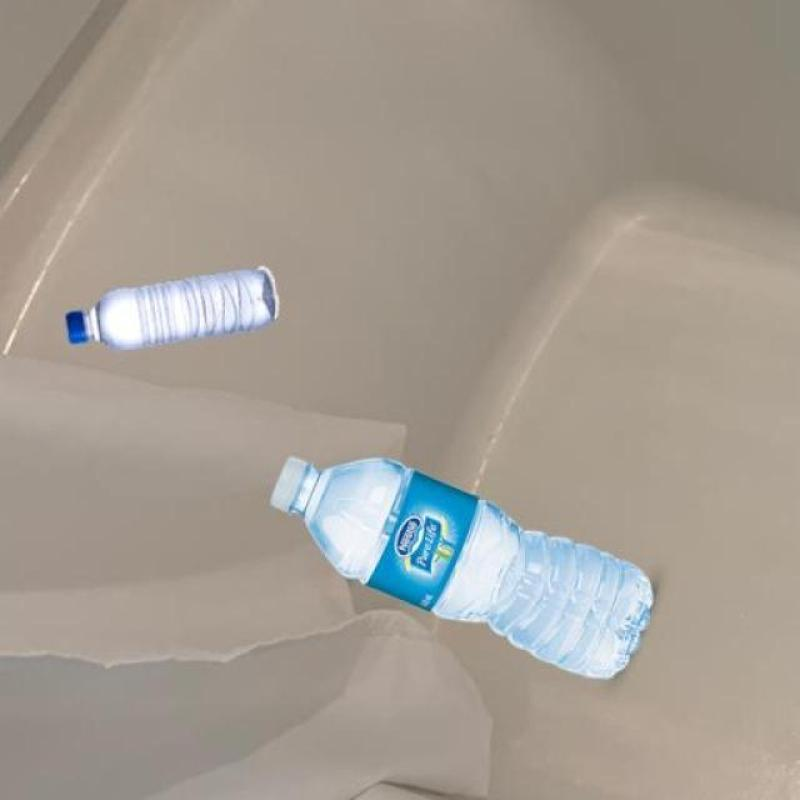botella: (267, 454, 652, 685), (63, 268, 277, 356)
